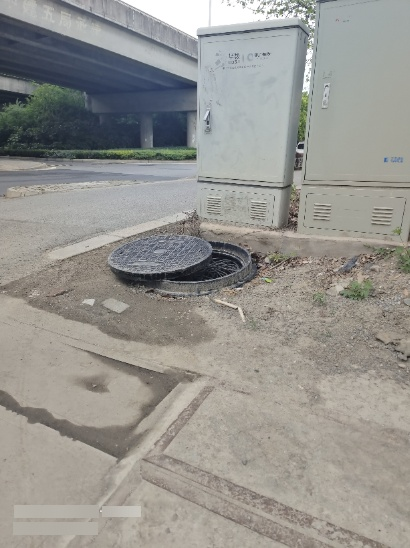uncovered: (110, 234, 252, 291)
